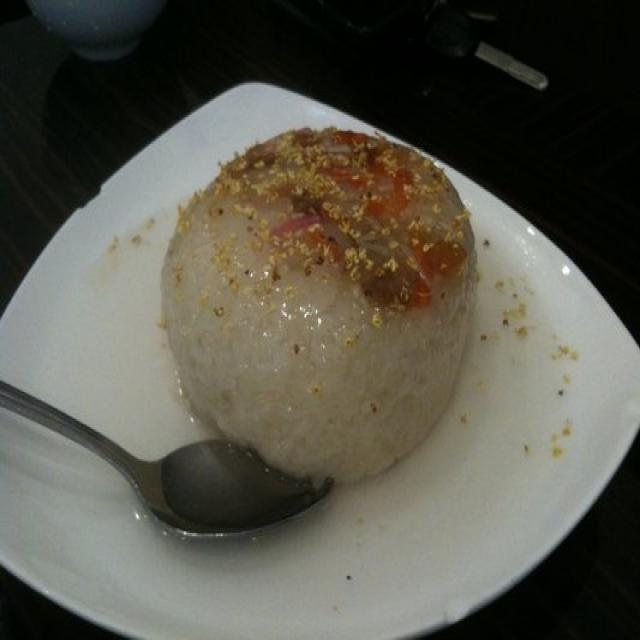米饭主食: (160, 104, 490, 501)
